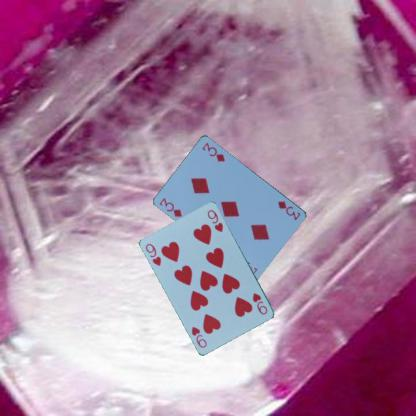3d: (156, 195, 184, 218), (275, 198, 302, 221)
9h: (143, 241, 163, 267), (250, 290, 269, 316)
